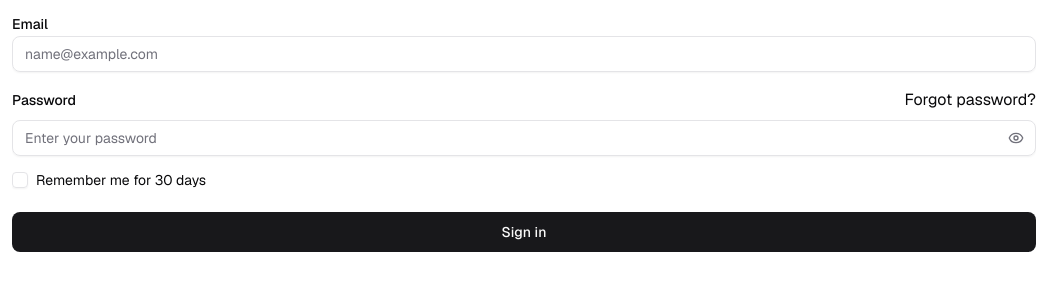
Test: LoginFormModern › Form Validation › should show error when password is too short
Type "test@example.com" into the field labelled "Email".
click(524, 54); type("test@example.com")  # box [12,36,1036,72]
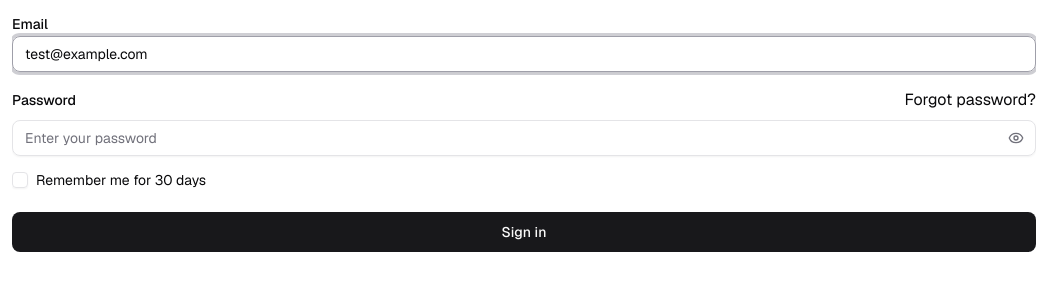
Type "short" into the password field labelled "Password".
click(524, 138); type("short")  # box [12,120,1036,156]
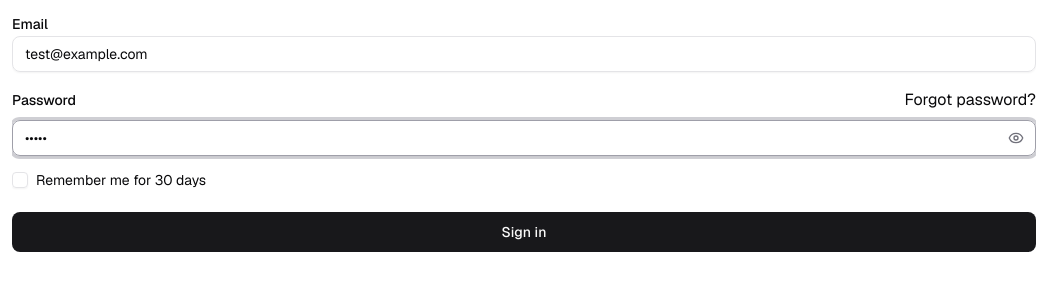
Click the button "Sign in".
click(524, 232)  # box [12,212,1036,252]
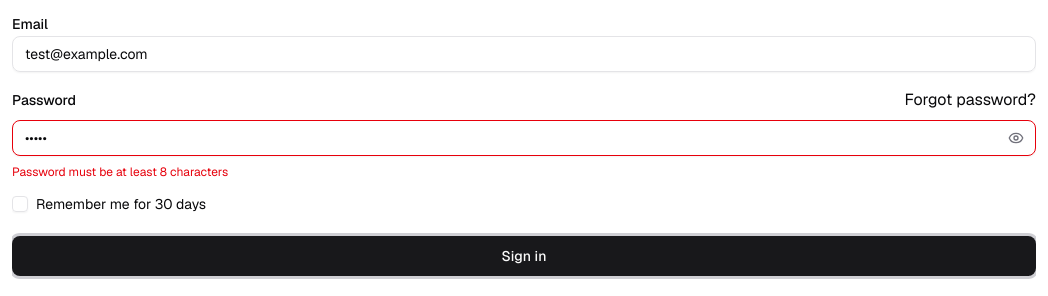
Expected: the text "Password must be at least 8 characters" is shown, [12,164,228,180]
